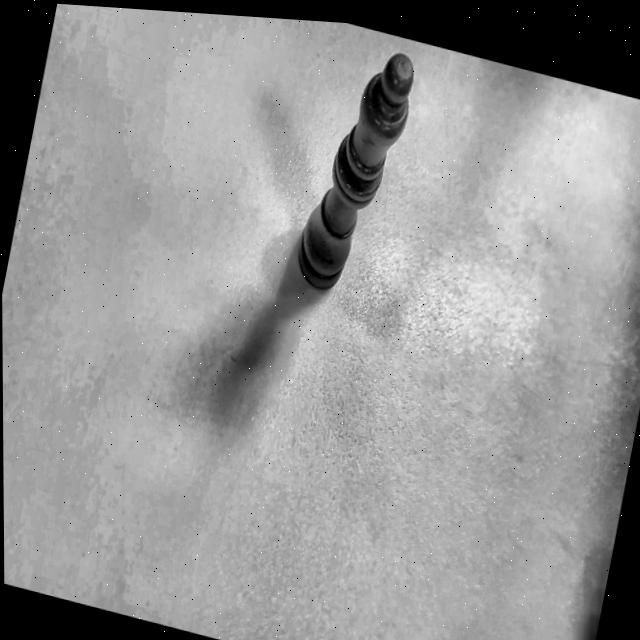black-queen: (276, 24, 431, 326)
